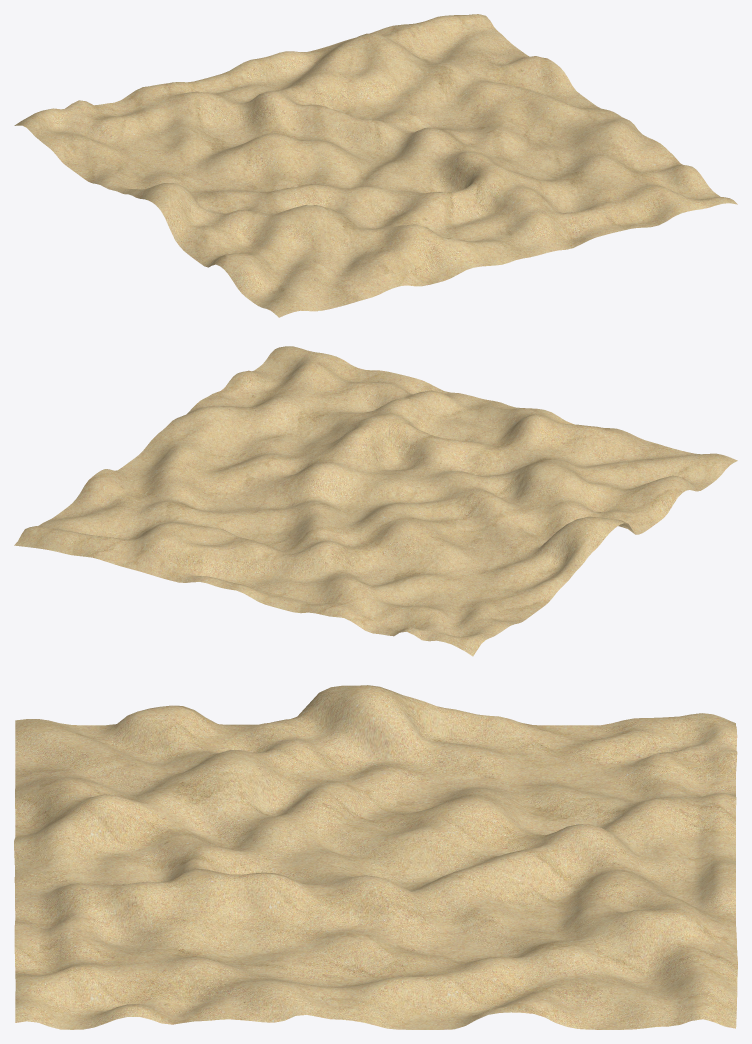
File: terrain.obj
The picture shows the model from 3 angles, top to bottom: view 1: azimuth 30°, elevation 25°; view 2: azimuth 150°, elevation 25°; view 3: azimuth 270°, elevation 25°; orthographic projection. The views are drawn at different scales.
Parts seen in each view (by area): view 1: Plane; view 2: Plane; view 3: Plane.
Boxes of the visible parts, bbox=[...] form: Plane: bbox=[14, 14, 737, 317]; Plane: bbox=[14, 346, 737, 656]; Plane: bbox=[14, 685, 737, 1029].
Bounding box in the file's own units: 179 × 13.3 × 179.
